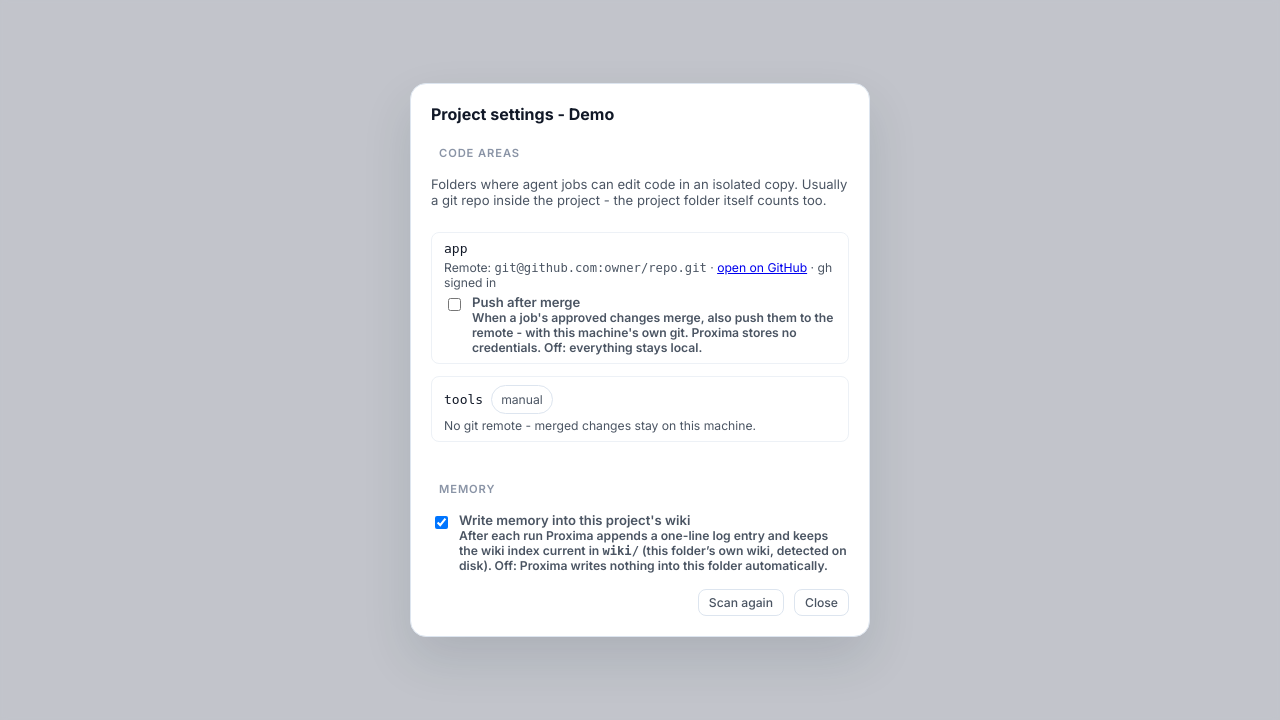
Test: ContainerSettingsModal › surfaces a refused toggle without flipping the checkbox
Click the checkbox labelled "Push after merge". click: (454, 304)
box: [448, 298, 461, 311]
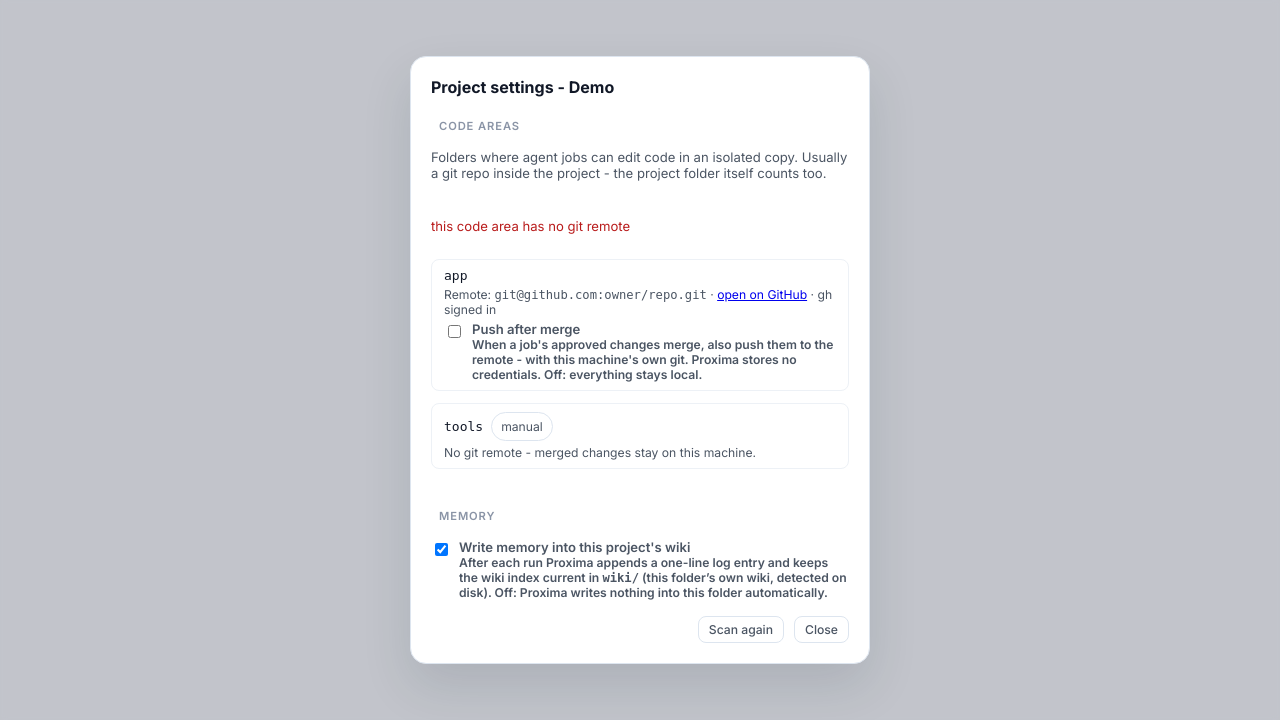
Expected: the checkbox labelled "Push after merge" is not checked, [448, 325, 461, 338]
Now the text "this code area has no git remote" is shown, box [431, 218, 630, 234]
